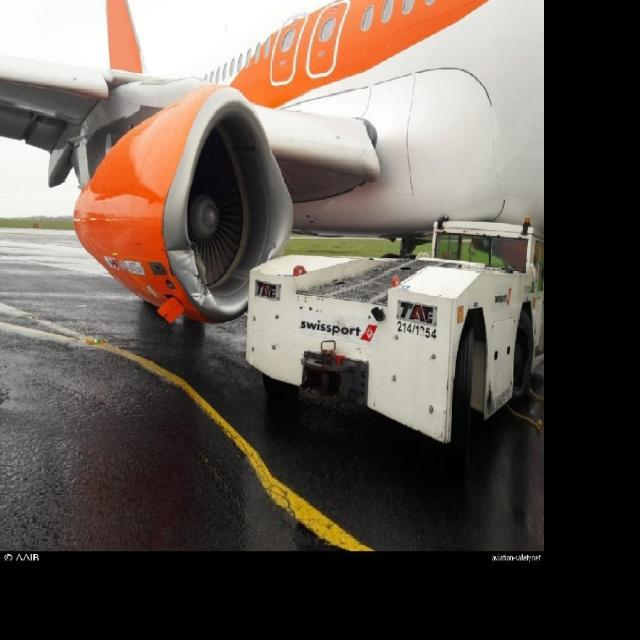crack: (193, 244, 211, 299)
dent: (262, 239, 289, 265), (171, 244, 194, 268), (189, 289, 207, 308)
